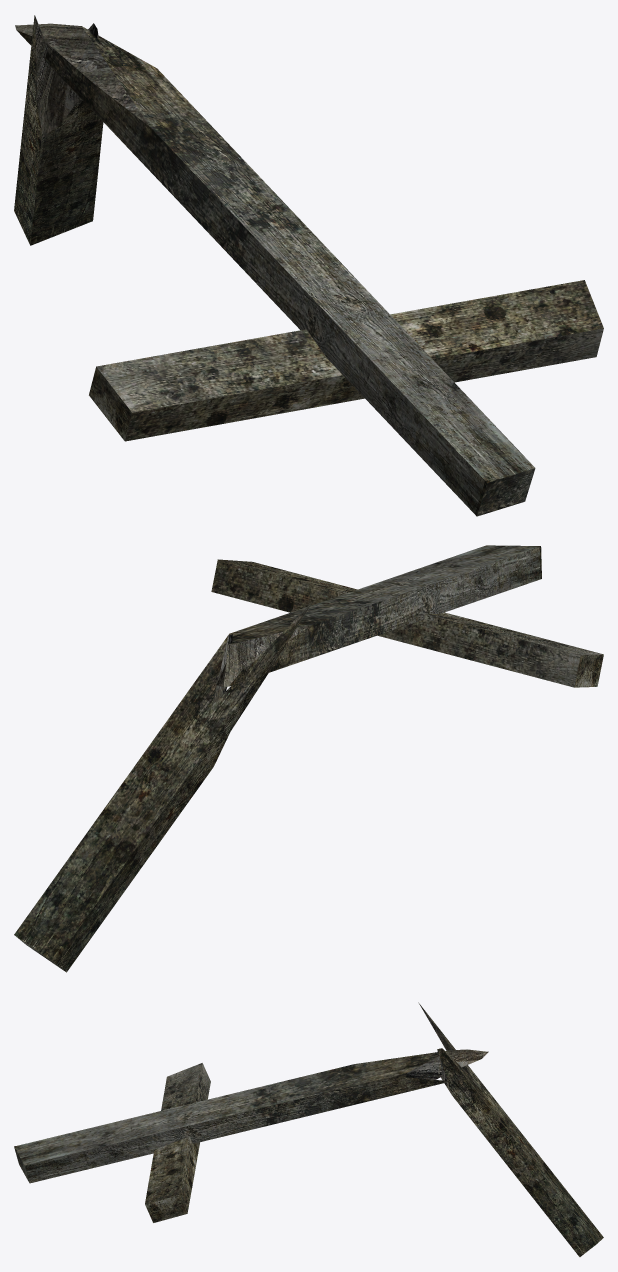
File: tomb5.fbx
3 renders of one model, top to bottom at view 1: azimuth 30°, elevation 25°; view 2: azimuth 150°, elevation 25°; view 3: azimuth 270°, elevation 25°, orthographic. The views are drawn at different scales.
Parts seen in each view (by area): view 1: tomb_5.object; view 2: tomb_5.object; view 3: tomb_5.object.
Boxes of the visible parts, left/top/right/bottom form: tomb_5.object: left=14, top=15, right=603, bottom=516; tomb_5.object: left=14, top=545, right=603, bottom=972; tomb_5.object: left=14, top=1002, right=603, bottom=1256.
Bounding box in the file's own units: 107 × 83.12 × 212.
